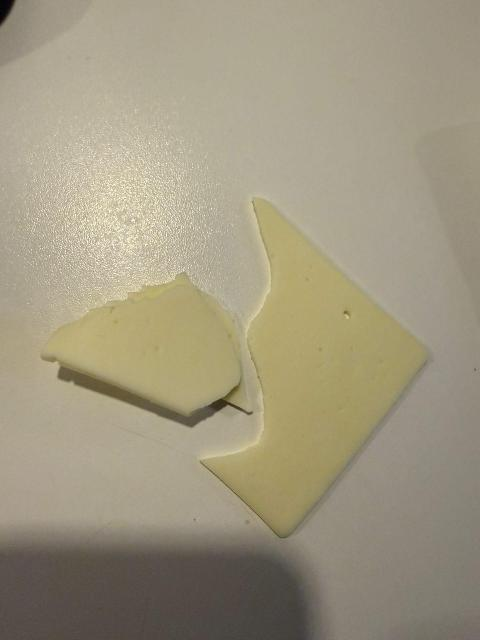Organik: (199, 199, 433, 533), (37, 276, 256, 427)
